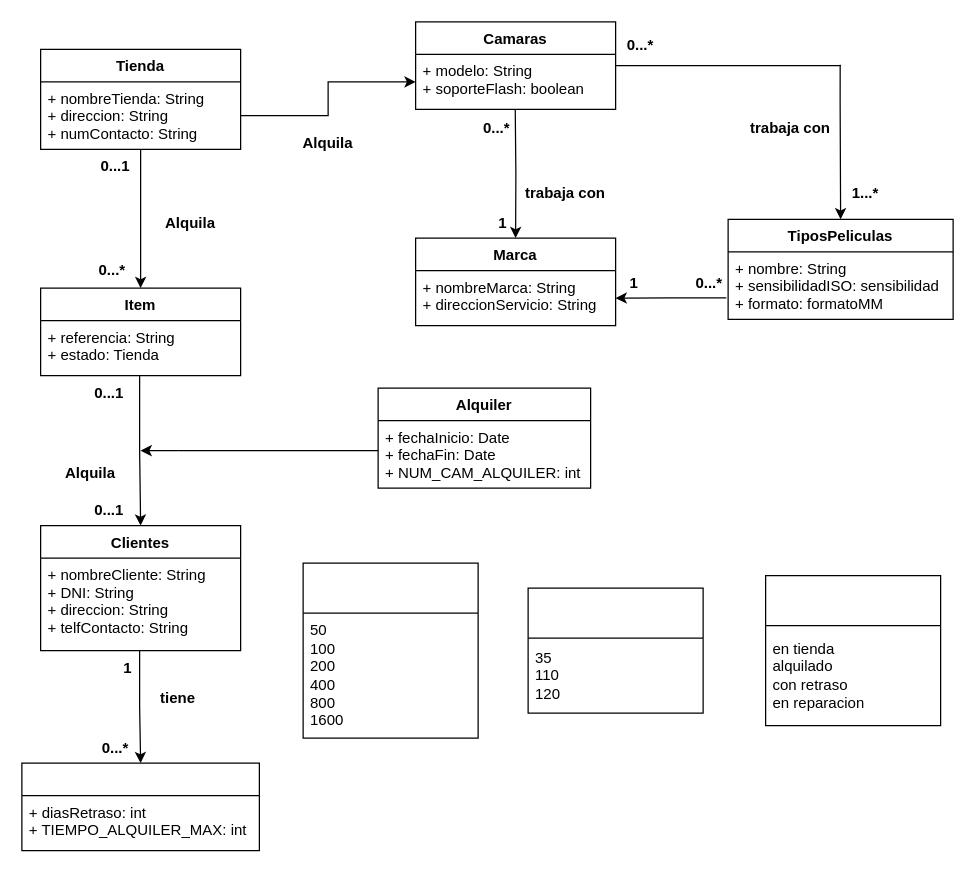
Some shapes in this 975 by 876 pixel diagram are drawn without their labels. Here are the shapes that lost their labels. From the top down, the box of each, then its label:
(302, 562, 478, 738): <<enumeration>> sensibilidad
(527, 587, 703, 713): <<enumeration>> formato
(764, 574, 941, 726): <<enumeration>> estado
(21, 762, 259, 851): Multa
